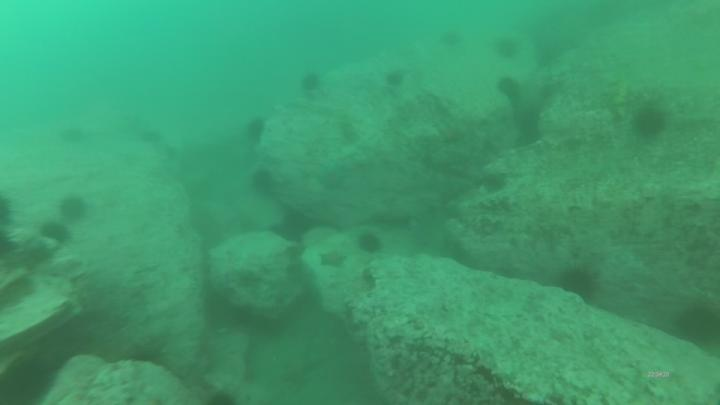echinus: (684, 307, 720, 350), (560, 270, 594, 296), (40, 220, 72, 245), (635, 110, 666, 135), (251, 168, 275, 196), (358, 232, 382, 256), (247, 120, 268, 145), (63, 200, 88, 219), (502, 76, 517, 96), (388, 71, 402, 87), (303, 75, 318, 87)
starfish: (322, 250, 347, 268)
